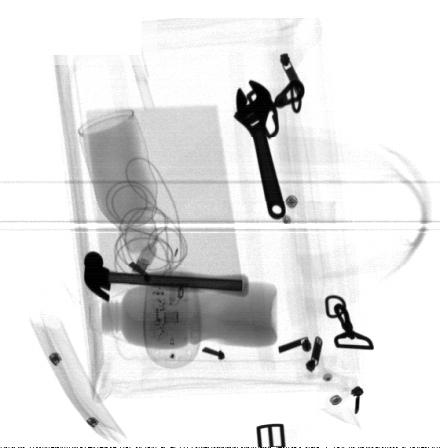Hammer: (84, 251, 250, 303)
Wrench: (233, 79, 286, 219)
